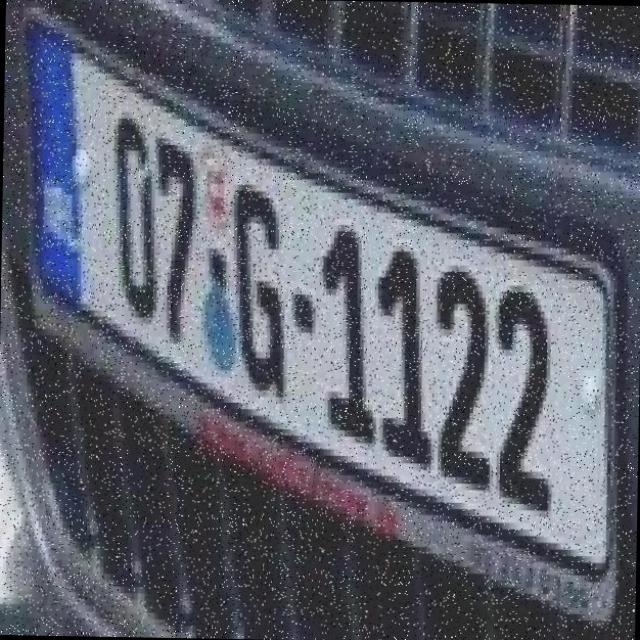LicensePlate: (4, 0, 637, 623)
